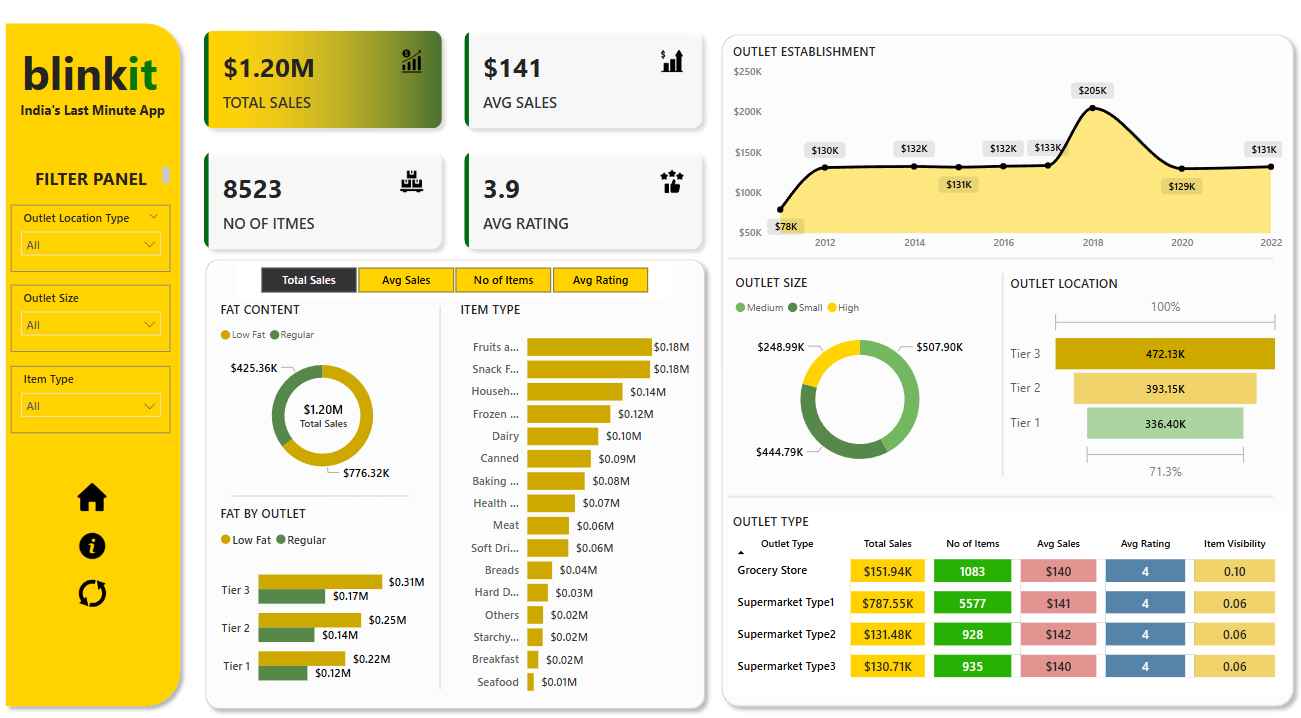

The page's visual inventory and layout, read from the dashboard file:
{"tool":"powerbi","page":{"name":"Page 1","canvas":[1400,800],"ordinal":0},"visuals":[{"type":"shape","box":[0,25.5,205.6,750.4],"z":0},{"type":"textbox","box":[21.4,49.6,164.9,79.1],"z":1000},{"type":"textbox","box":[14.7,112.6,175.6,30.8],"z":2000},{"type":"cardVisual","fields":{"Data":["BlinkIT Grocery Data.Total Sales","BlinkIT Grocery Data.Avg Sales","BlinkIT Grocery Data.No of Items","BlinkIT Grocery Data.Avg Rating"]},"box":[205.1,25.5,569.7,269.4],"z":3000},{"type":"shape","box":[214.5,278.8,553.6,500],"z":4000},{"type":"donutChart","title":"FAT CONTENT ","fields":{"Y":["BlinkIT Grocery Data.Total Sales"],"Category":["BlinkIT Grocery Data.Item Fat Content"]},"box":[234.6,332.4,229.2,201.1],"z":5000},{"type":"cardVisual","fields":{"Data":["BlinkIT Grocery Data.Total Sales"]},"box":[305.6,422.3,89.8,63],"z":6000},{"type":"slicer","fields":{"Values":["Matrics.Matrics"]},"box":[257.4,289.5,465.1,40.2],"z":7000},{"type":"clusteredBarChart","title":"FAT BY OUTLET","fields":{"Y":["BlinkIT Grocery Data.Total Sales"],"Category":["BlinkIT Grocery Data.Outlet Location Type"],"Series":["BlinkIT Grocery Data.Item Fat Content"]},"box":[234.6,550.9,229.2,211.8],"z":8000},{"type":"shape","box":[250.7,529.5,191.7,24.1],"z":9000},{"type":"shape","box":[469.2,337.8,12.1,411.5],"z":10000},{"type":"barChart","title":"ITEM TYPE","fields":{"Y":["BlinkIT Grocery Data.Total Sales"],"Category":["BlinkIT Grocery Data.Item Type"]},"box":[492,332.4,256,433],"z":11000},{"type":"shape","box":[768.1,37.5,631.4,738.6],"z":12000},{"type":"lineChart","title":"OUTLET ESTABLISHMENT","fields":{"Category":["BlinkIT Grocery Data.Outlet Establishment Year"],"Y":["BlinkIT Grocery Data.Total Sales"]},"box":[784.2,55,599.2,231.9],"z":13000},{"type":"shape","box":[784.2,278.8,584.5,16.1],"z":14000},{"type":"donutChart","title":"OUTLET SIZE","fields":{"Y":["BlinkIT Grocery Data.Total Sales"],"Category":["BlinkIT Grocery Data.Outlet Size"]},"box":[786.9,303,277.5,225.2],"z":15000},{"type":"shape","box":[1072.4,303,12.1,218.5],"z":16000},{"type":"funnel","title":"OUTLET LOCATION","fields":{"Y":["Sum(BlinkIT Grocery Data.Sales)"],"Category":["BlinkIT Grocery Data.Outlet Location Type"]},"box":[1081.8,304.3,298.9,226.5],"z":17000},{"type":"shape","box":[784.2,532.2,584.5,20.1],"z":18000},{"type":"pivotTable","title":"OUTLET TYPE","fields":{"Rows":["BlinkIT Grocery Data.Outlet Type"],"Values":["BlinkIT Grocery Data.Total Sales","BlinkIT Grocery Data.No of Items","BlinkIT Grocery Data.Avg Sales","BlinkIT Grocery Data.Avg Rating","Avg(BlinkIT Grocery Data.Item Visibility)"]},"box":[784.2,559,599.2,195.7],"z":19000},{"type":"slicer","fields":{"Values":["BlinkIT Grocery Data.Outlet Location Type"]},"box":[14.7,229.2,171.6,72.4],"z":20000},{"type":"slicer","fields":{"Values":["BlinkIT Grocery Data.Outlet Size"]},"box":[14.7,315,171.6,72.4],"z":21000},{"type":"slicer","fields":{"Values":["BlinkIT Grocery Data.Item Type"]},"box":[14.7,402.1,171.6,72.4],"z":22000},{"type":"textbox","box":[18.8,183.6,171.6,30.8],"z":23000},{"type":"image","box":[72.4,565.4,60.3,60.3],"z":24000},{"type":"image","box":[72.4,513.1,60.3,60.3],"z":25000},{"type":"image","box":[73.7,617.7,59,59],"z":26000}]}

Visuals, with their boxes on the page's 1400x800 design canvas (x1, y1, x2, y2). These are canvas units, not pixel positions in the 1301x718 screenshot, which may show the page scaled, cropped or inside an application window:
shape: (0,26,206,776)
textbox: (21,50,186,129)
textbox: (15,113,190,143)
cardVisual - BlinkIT Grocery Data.Total Sales x BlinkIT Grocery Data.Avg Sales: (205,26,775,295)
shape: (214,279,768,779)
"FAT CONTENT " donutChart: (235,332,464,534)
cardVisual - BlinkIT Grocery Data.Total Sales: (306,422,395,485)
slicer - Matrics.Matrics: (257,290,722,330)
"FAT BY OUTLET" clusteredBarChart: (235,551,464,763)
shape: (251,530,442,554)
shape: (469,338,481,749)
"ITEM TYPE" barChart: (492,332,748,765)
shape: (768,38,1400,776)
"OUTLET ESTABLISHMENT" lineChart: (784,55,1383,287)
shape: (784,279,1369,295)
"OUTLET SIZE" donutChart: (787,303,1064,528)
shape: (1072,303,1084,522)
"OUTLET LOCATION" funnel: (1082,304,1381,531)
shape: (784,532,1369,552)
"OUTLET TYPE" pivotTable: (784,559,1383,755)
slicer - BlinkIT Grocery Data.Outlet Location Type: (15,229,186,302)
slicer - BlinkIT Grocery Data.Outlet Size: (15,315,186,387)
slicer - BlinkIT Grocery Data.Item Type: (15,402,186,474)
textbox: (19,184,190,214)
image: (72,565,133,626)
image: (72,513,133,573)
image: (74,618,133,677)
